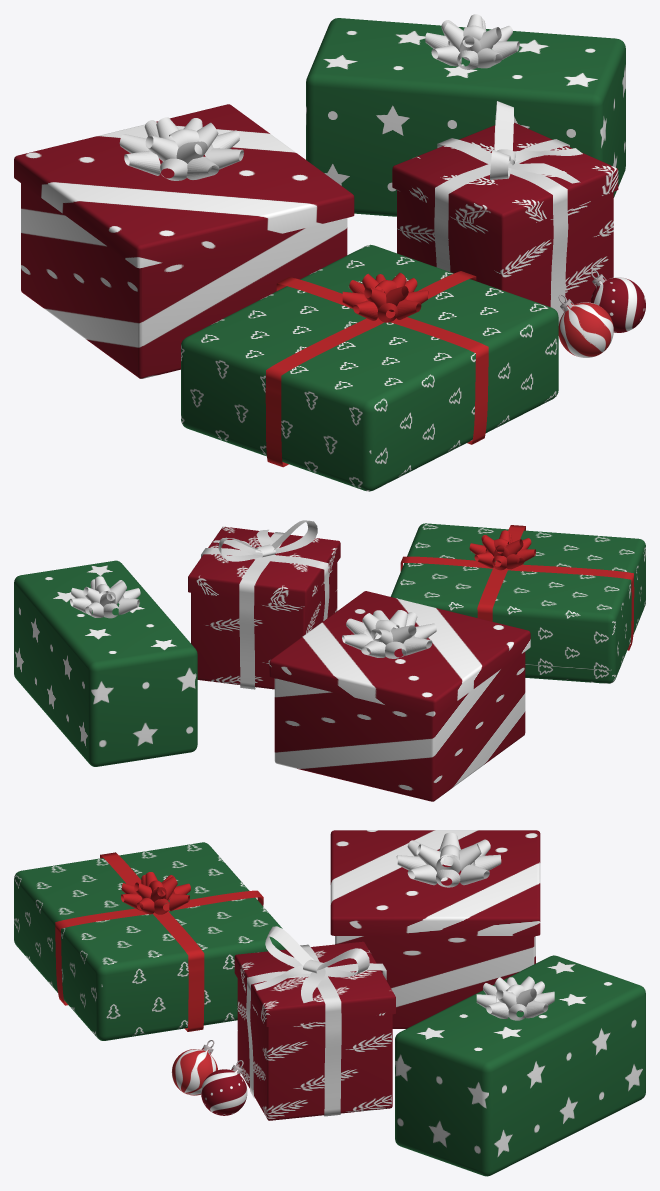
Rendered from Regalos.fbx.
3 renders of one model, top to bottom at view 1: azimuth 30°, elevation 25°; view 2: azimuth 150°, elevation 25°; view 3: azimuth 270°, elevation 25°, orthographic. The views are drawn at different scales.
Parts seen in each view (by area): view 1: regalo04, regalo01, regalo03, regalo02, Cinta01, Cinta02, Cinta04, Cinta03, Esfera02, Esfera01; view 2: regalo04, regalo03, regalo01, regalo02, Cinta02, Cinta01, Cinta04, Cinta03; view 3: regalo03, regalo01, regalo04, regalo02, Cinta01, Cinta02, Cinta04, Cinta03, Esfera01, Esfera02.
Part boxes in pixels (bbox=[...]): regalo04: bbox=[14, 104, 354, 378]; regalo01: bbox=[181, 244, 558, 491]; regalo03: bbox=[306, 18, 625, 216]; regalo02: bbox=[392, 122, 618, 306]; Cinta01: bbox=[265, 271, 488, 467]; Cinta02: bbox=[434, 101, 582, 323]; Cinta04: bbox=[119, 117, 243, 180]; Cinta03: bbox=[425, 14, 519, 69]; Esfera02: bbox=[558, 294, 613, 357]; Esfera01: bbox=[590, 269, 645, 332]; regalo04: bbox=[269, 591, 530, 801]; regalo03: bbox=[14, 560, 197, 766]; regalo01: bbox=[390, 523, 645, 683]; regalo02: bbox=[188, 526, 340, 689]; Cinta02: bbox=[201, 520, 329, 689]; Cinta01: bbox=[400, 525, 634, 650]; Cinta04: bbox=[342, 610, 436, 658]; Cinta03: bbox=[70, 576, 140, 618]; regalo03: bbox=[395, 955, 645, 1176]; regalo01: bbox=[14, 842, 285, 1040]; regalo04: bbox=[330, 830, 540, 1028]; regalo02: bbox=[234, 941, 395, 1120]; Cinta01: bbox=[55, 852, 263, 1031]; Cinta02: bbox=[246, 926, 386, 1116]; Cinta04: bbox=[396, 832, 501, 887]; Cinta03: bbox=[476, 976, 554, 1020]; Esfera01: bbox=[201, 1060, 247, 1115]; Esfera02: bbox=[171, 1040, 217, 1095].
Bounding box in the file's own units: 70.34 × 19.62 × 75.38.
